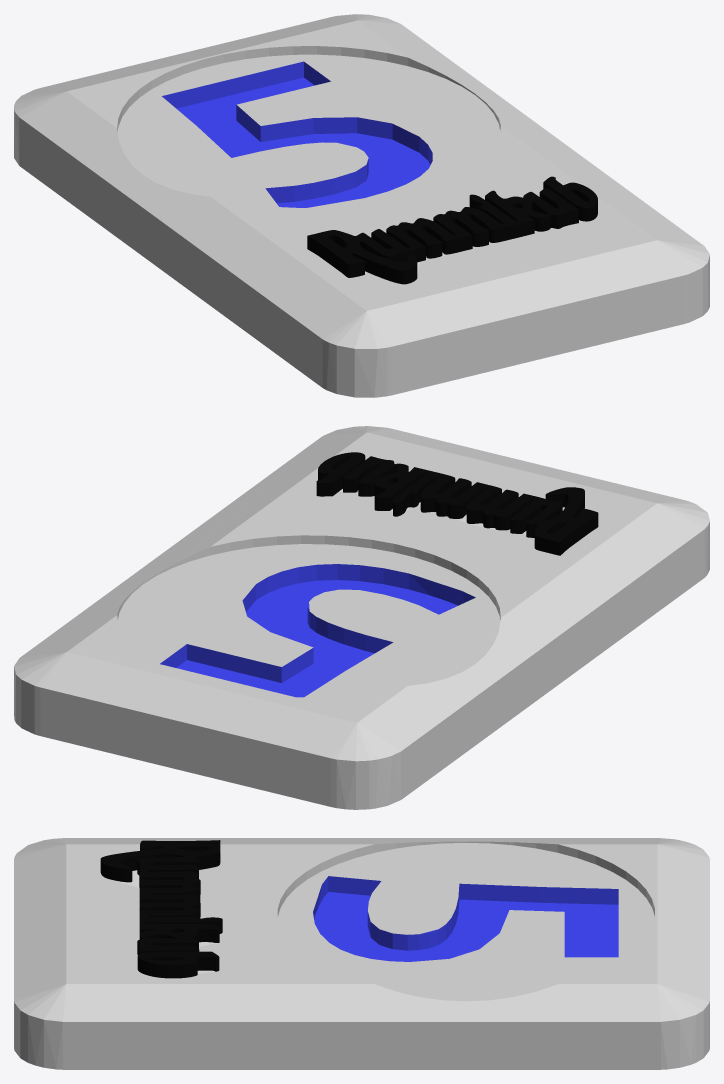
3 renders of one model, top to bottom at view 1: azimuth 30°, elevation 25°; view 2: azimuth 150°, elevation 25°; view 3: azimuth 270°, elevation 25°, orthographic.
Parts seen in each view (by area): view 1: Rummikub 5 Fixed, Rummikub 1 Fixed.001; view 2: Rummikub 5 Fixed, Rummikub 1 Fixed.001; view 3: Rummikub 5 Fixed, Rummikub 1 Fixed.001.
Part boxes in pixels (x1,y1,x2,y2): Rummikub 5 Fixed: (14, 14, 709, 397); Rummikub 1 Fixed.001: (307, 176, 597, 284); Rummikub 5 Fixed: (14, 426, 709, 809); Rummikub 1 Fixed.001: (316, 452, 598, 555); Rummikub 5 Fixed: (14, 838, 709, 1069); Rummikub 1 Fixed.001: (100, 840, 222, 978).
Size of the model in its own units: 2499 by 489 by 4000.
